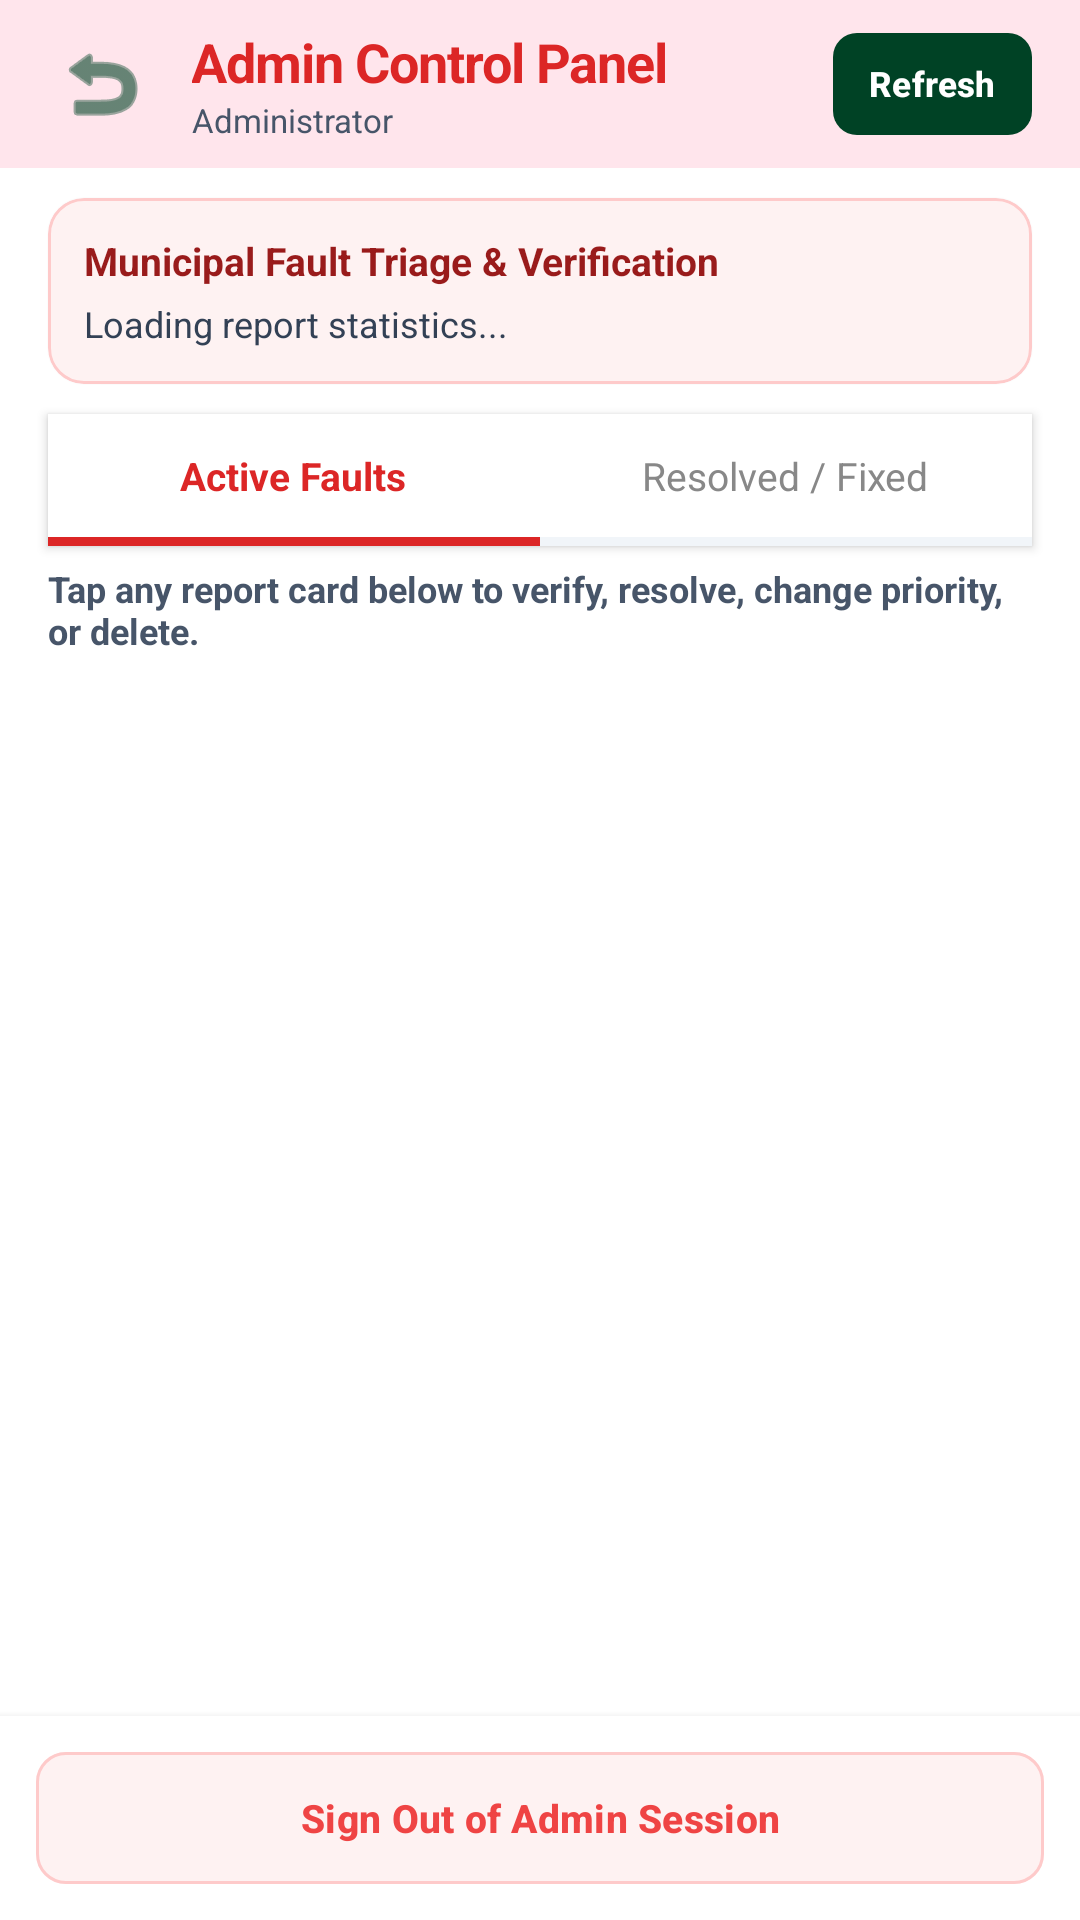

Icons on this 1080px x 1920px Android screen, each with the point to tap as point (x, y):
Back: point (103, 84)
